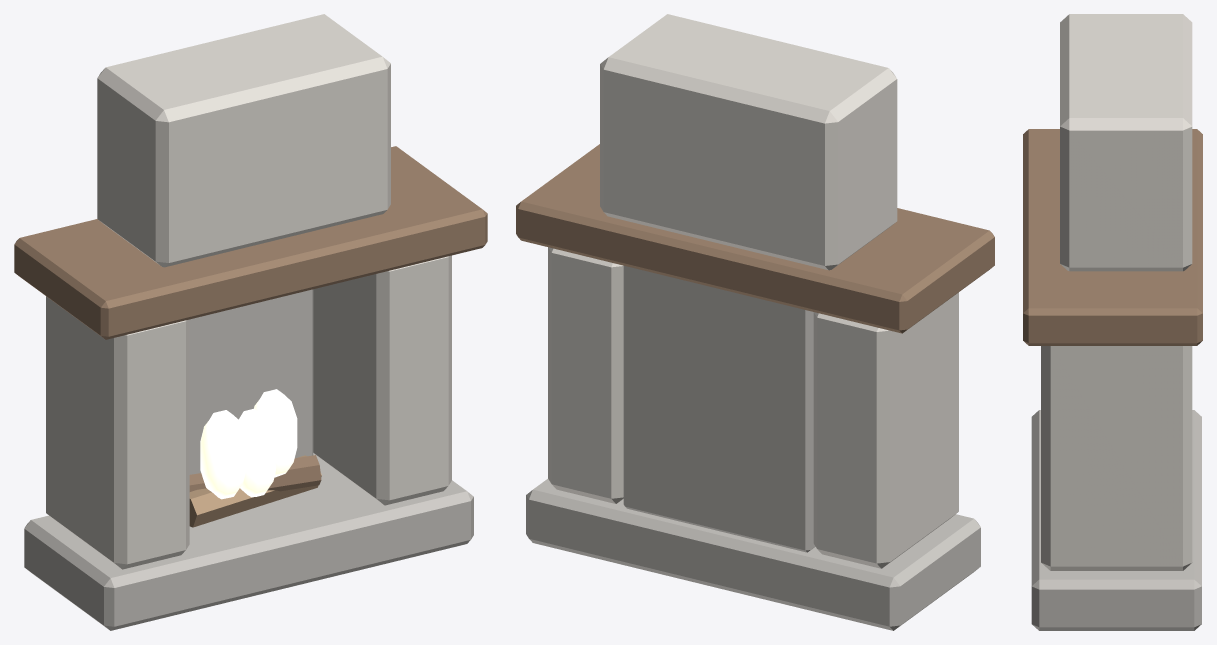
The model's file is prop_fireplace.glb.
3 renders of one model, left to right at view 1: azimuth 30°, elevation 25°; view 2: azimuth 150°, elevation 25°; view 3: azimuth 270°, elevation 25°, orthographic. The views are drawn at different scales.
Parts seen in each view (by area): view 1: prop_fireplace; view 2: prop_fireplace; view 3: prop_fireplace.
Boxes of the visible parts, x1,y1,x2,y2 form: prop_fireplace: (14, 14, 487, 630); prop_fireplace: (516, 14, 994, 630); prop_fireplace: (1023, 14, 1202, 630).
Size of the model in its own units: 2.3 by 2.8 by 0.95.
